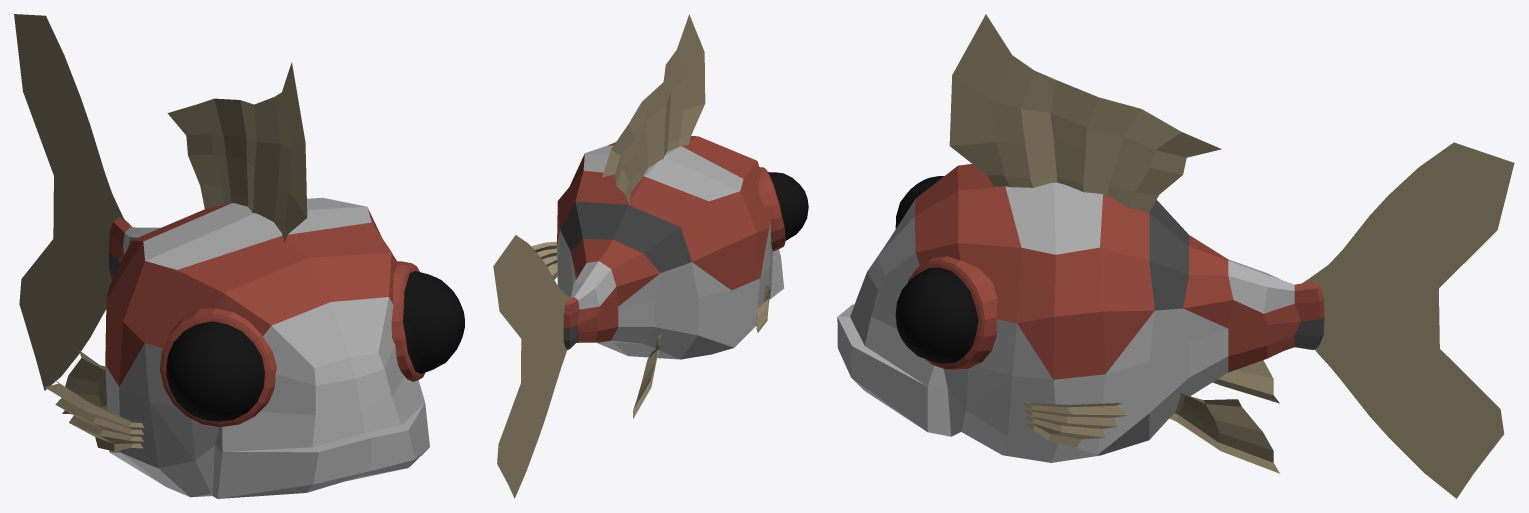
Rendered from Koi.glb.
3 views of the same model, side by side, from view 1: azimuth 30°, elevation 25°; view 2: azimuth 150°, elevation 25°; view 3: azimuth 270°, elevation 25° (orthographic). The views are drawn at different scales.
Parts seen in each view (by area): view 1: Koi; view 2: Koi; view 3: Koi.
Boxes of the visible parts, x1,y1,x2,y2 form: Koi: [14, 14, 464, 498]; Koi: [493, 14, 808, 498]; Koi: [837, 14, 1514, 498].
Bounding box in the file's own units: 0.3501 × 0.4928 × 0.6242.
